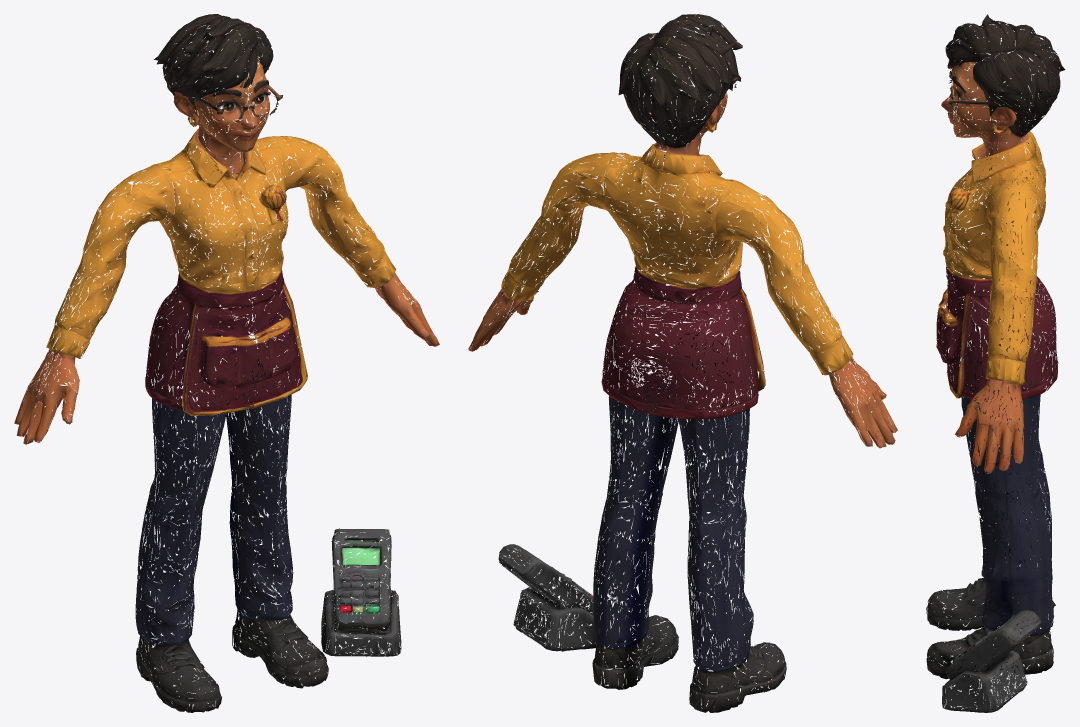
File: lantern-cashier.glb
The picture shows the model from 3 angles, left to right: view 1: azimuth 30°, elevation 25°; view 2: azimuth 150°, elevation 25°; view 3: azimuth 270°, elevation 25°; orthographic projection. The views are drawn at different scales.
Parts seen in each view (by area): view 1: tripo_node_3b465fab-5e06-4408-b35c-e1c928e67509; view 2: tripo_node_3b465fab-5e06-4408-b35c-e1c928e67509; view 3: tripo_node_3b465fab-5e06-4408-b35c-e1c928e67509.
Part boxes in pixels (box(x1,y1,x2,y2)): tripo_node_3b465fab-5e06-4408-b35c-e1c928e67509: box(14, 14, 439, 712); tripo_node_3b465fab-5e06-4408-b35c-e1c928e67509: box(468, 14, 897, 712); tripo_node_3b465fab-5e06-4408-b35c-e1c928e67509: box(926, 14, 1065, 712).
Bounding box in the file's own units: 0.647 × 0.9819 × 0.1991.
1 material, 1 textured.
